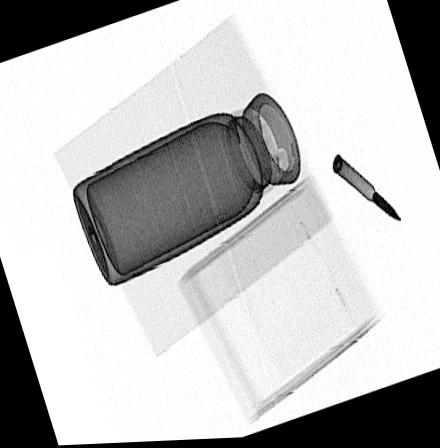Bullet: (331, 156, 401, 225)
